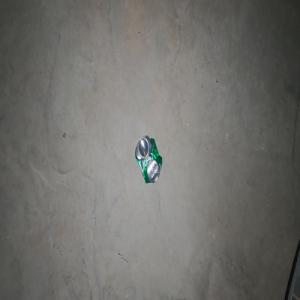SodaCan: (134, 134, 162, 183)
